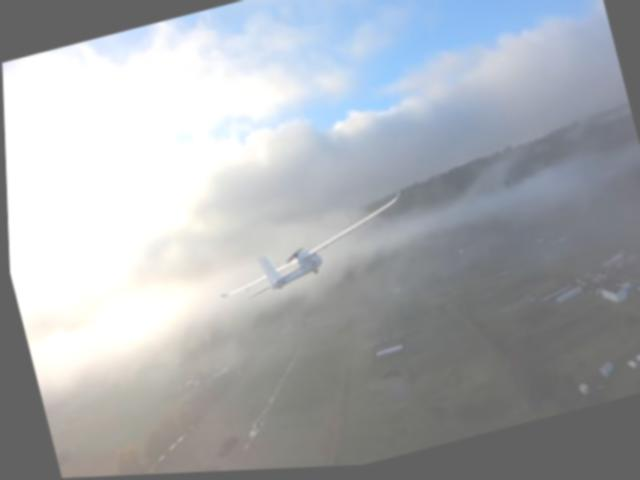uav: (195, 183, 426, 324)
